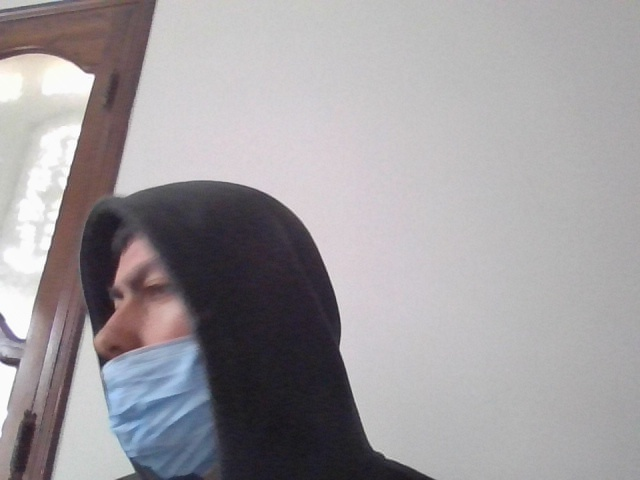mask_weared_incorrect: (82, 216, 240, 477)
